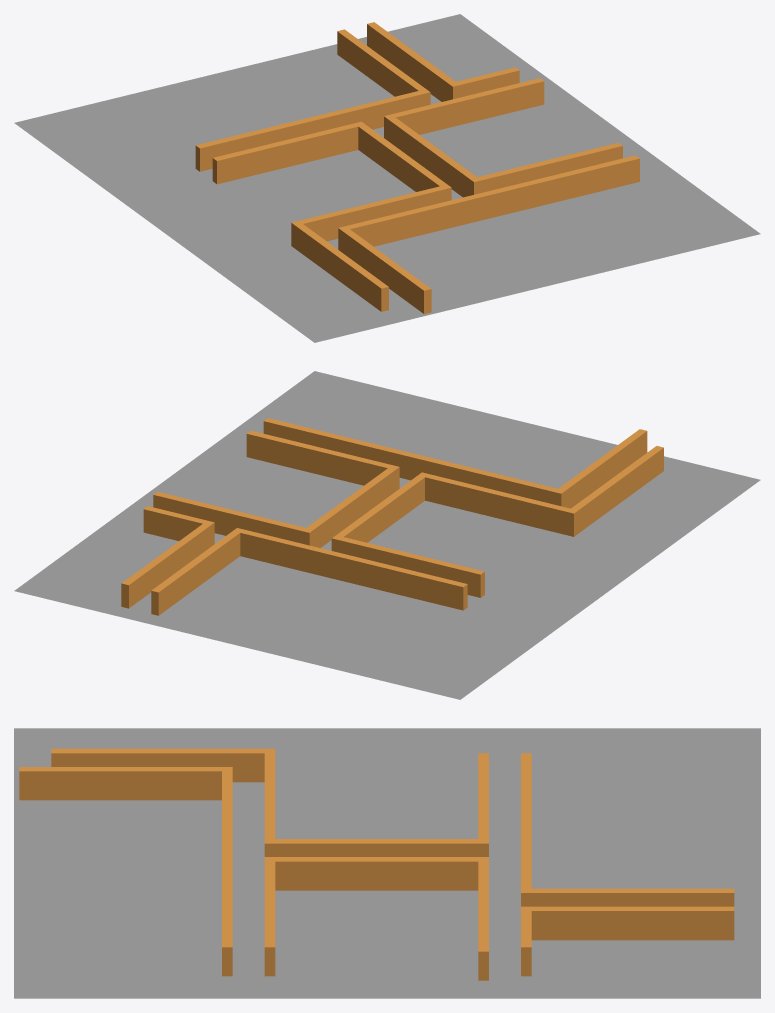
The model's file is Corridor.fbx.
The picture shows the model from 3 angles, top to bottom: view 1: azimuth 30°, elevation 25°; view 2: azimuth 150°, elevation 25°; view 3: azimuth 270°, elevation 25°; orthographic projection. The views are drawn at different scales.
Visible parts, largest first — view 1: Плоскость, Cube, Cube.005, Cube.004, Cube.009, Cube.007, Cube.006, Cube.008, Cube.001, Cube.011, Cube.003, Cube.002 (+2 smaller); view 2: Плоскость, Cube.005, Cube, Cube.006, Cube.001, Cube.004, Cube.009, Cube.010, Cube.011, Cube.007, Cube.003, Cube.008 (+2 smaller); view 3: Плоскость, Cube.011, Cube.003, Cube.008, Cube.007, Cube.010, Cube.002, Cube, Cube.005, Cube.001, Cube.009, Cube.004 (+2 smaller).
Boxes of the visible parts, x1,y1,x2,y2 form: Плоскость: (14,14,760,342); Cube: (338,155,639,252); Cube.005: (195,91,422,171); Cube.004: (212,121,365,184); Cube.009: (391,78,544,134); Cube.007: (295,224,388,311); Cube.006: (291,186,444,248); Cube.008: (342,229,431,313); Cube.001: (469,143,622,195); Cube.011: (367,22,460,101); Cube.003: (384,114,476,197); Cube.002: (358,125,451,201); Плоскость: (14,371,760,699); Cube.005: (240,529,467,610); Cube: (263,418,565,507); Cube.006: (425,474,578,536); Cube.001: (246,430,399,491); Cube.004: (331,535,484,597); Cube.009: (153,491,305,543); Cube.010: (151,528,243,615); Cube.011: (121,520,214,608); Cube.007: (571,446,663,533); Cube.003: (302,468,395,547); Cube.008: (558,429,647,508); Плоскость: (14,728,760,998); Cube.011: (521,906,734,940); Cube.003: (275,857,488,890); Cube.008: (19,767,221,800); Cube.007: (51,748,264,782); Cube.010: (521,888,734,906); Cube.002: (264,839,478,856); Cube: (222,767,232,976); Cube.005: (521,753,531,888); Cube.001: (264,857,275,976); Cube.009: (478,861,488,980); Cube.004: (478,753,488,856).
Size of the model in its own units: 12000 by 600 by 14000.
